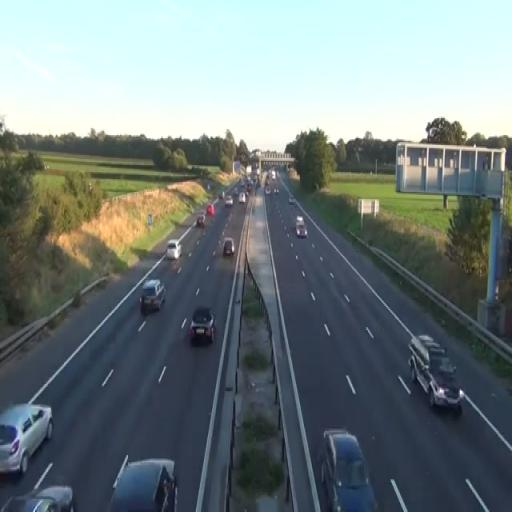Car: (317, 429, 378, 512), (0, 401, 54, 479), (108, 455, 178, 512), (0, 485, 78, 512), (188, 306, 218, 346), (140, 280, 166, 314), (166, 240, 183, 260), (296, 216, 306, 239), (222, 238, 234, 256), (196, 214, 206, 228)
Truck: (408, 334, 464, 414)
